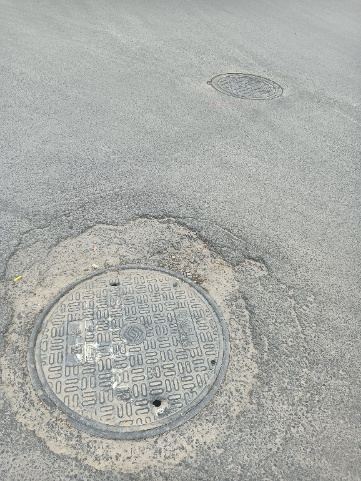good: (26, 264, 229, 440), (205, 71, 284, 102)
